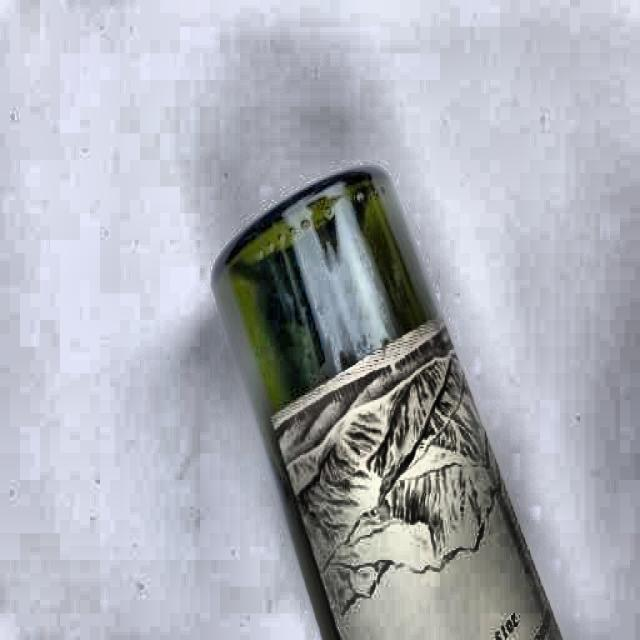glass: (208, 162, 573, 640)
